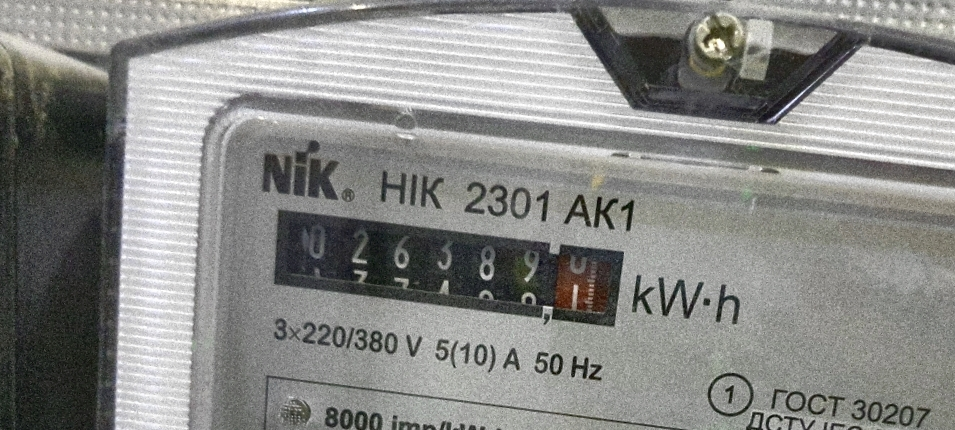0: (302, 219, 331, 261), (567, 252, 588, 275)
1: (566, 279, 583, 312)
2: (346, 225, 375, 266)
3: (434, 236, 455, 273)
6: (390, 230, 414, 271)
8: (475, 242, 501, 282)
9: (519, 247, 541, 283)
screen: (252, 187, 642, 346)
